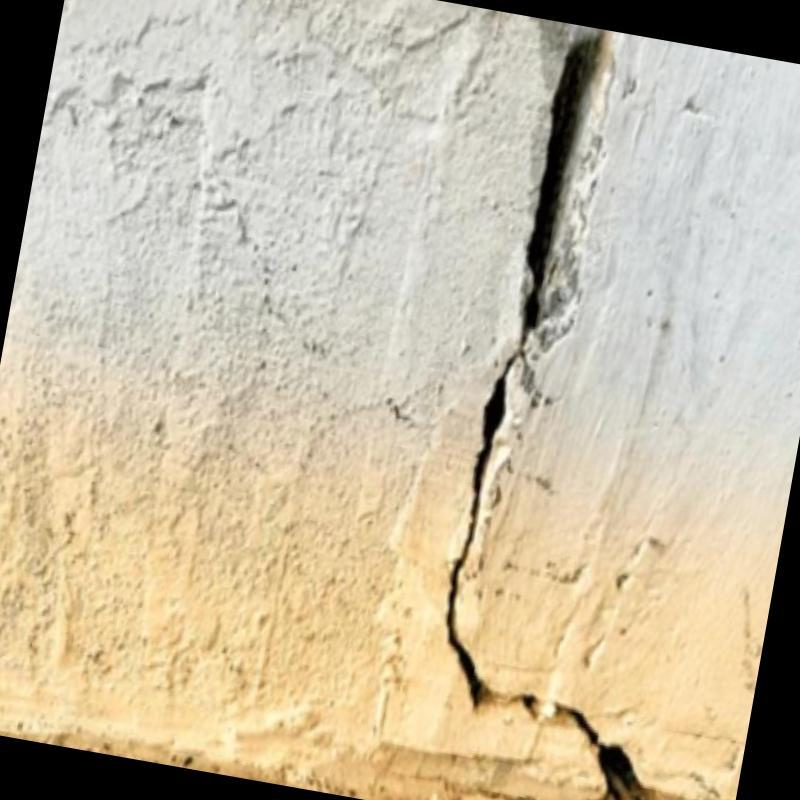pothole: (446, 45, 647, 800)
